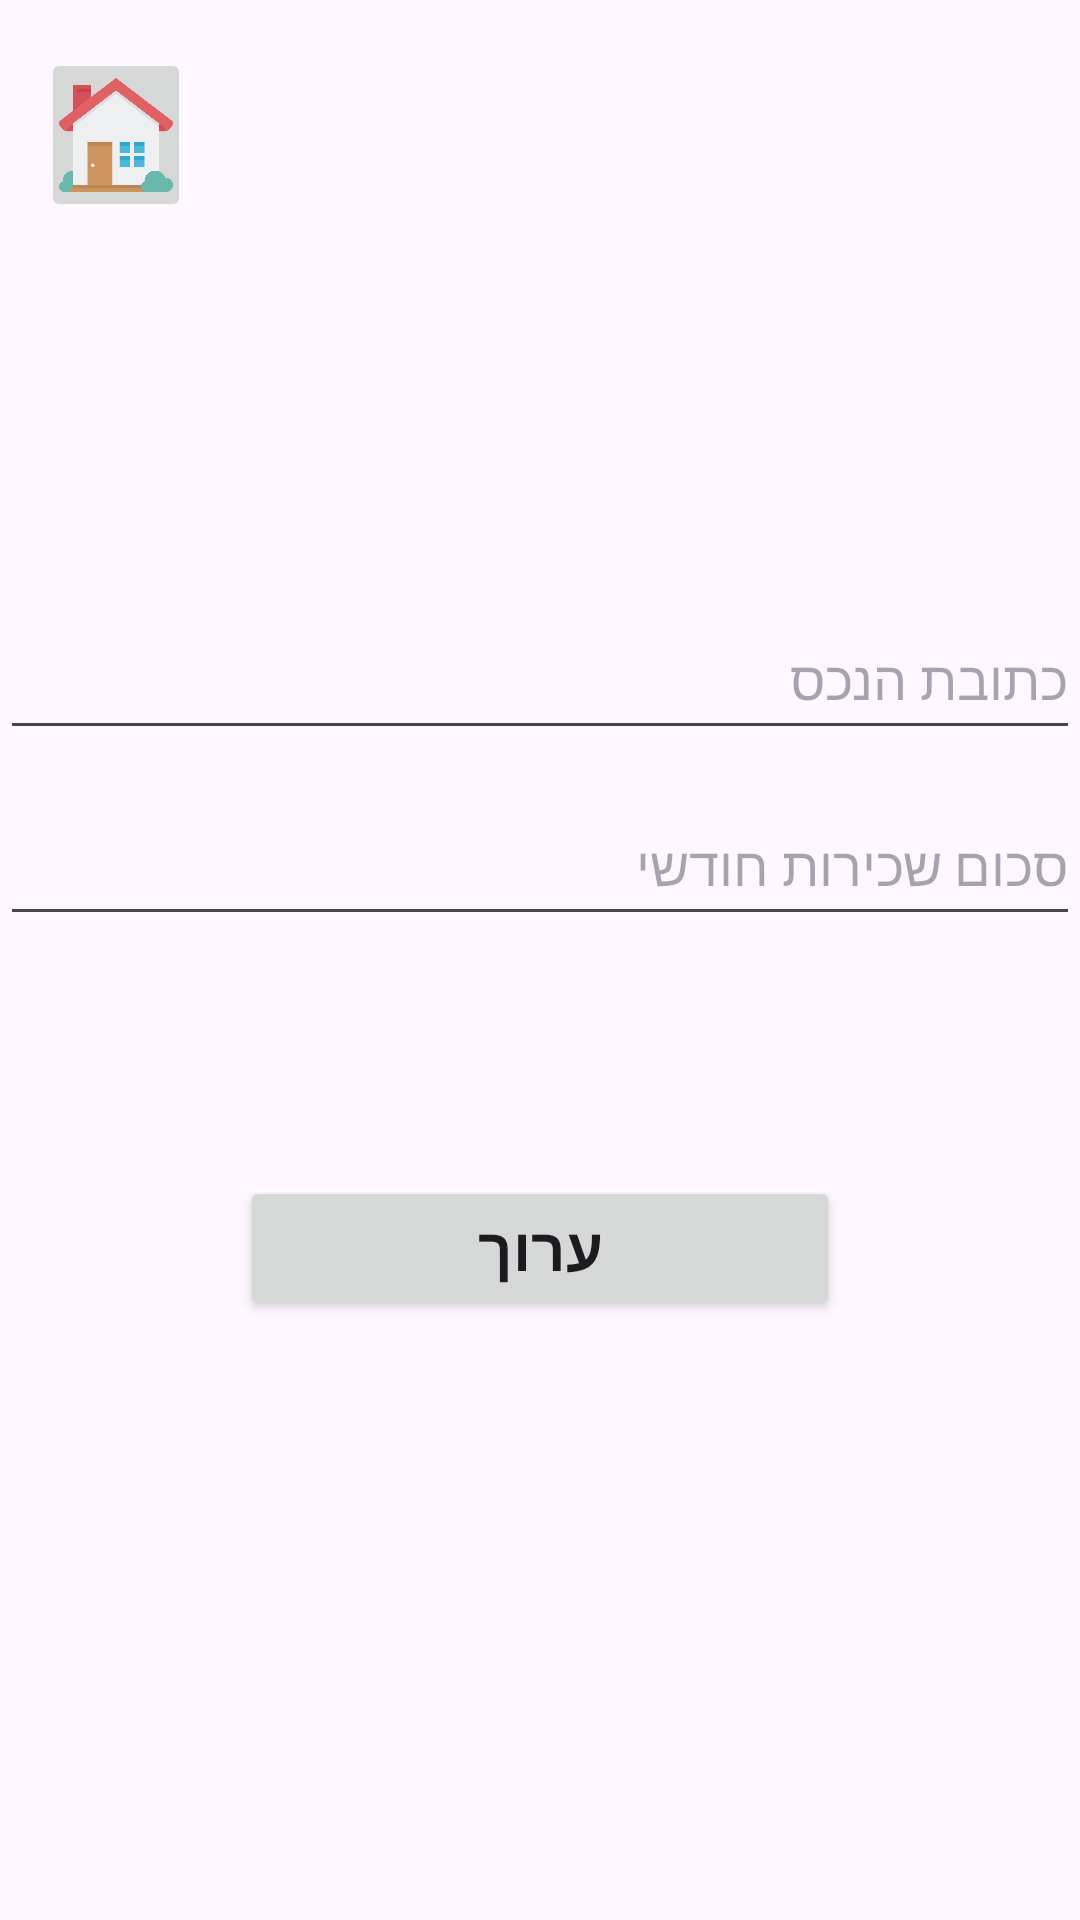

Locate icon controls on the screen. Image size 1080×1920, boxes as (x1=x1, y1=y1, x2=x2, y2=y2).
Home button for renter homepage: (x1=53, y1=66, x2=179, y2=204)
